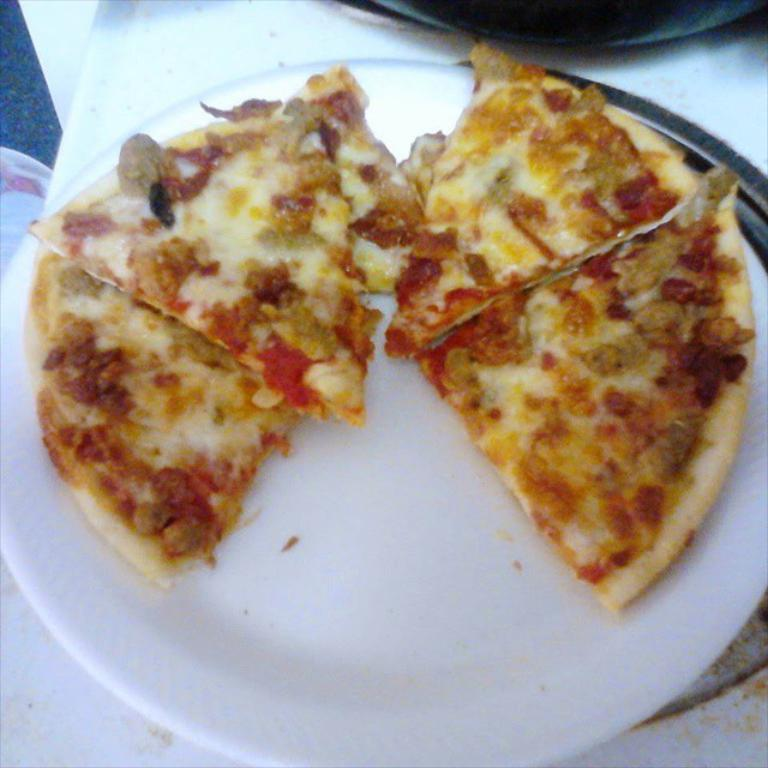Pizza: (409, 193, 757, 619), (22, 80, 364, 422), (38, 241, 327, 588), (380, 33, 684, 348)
